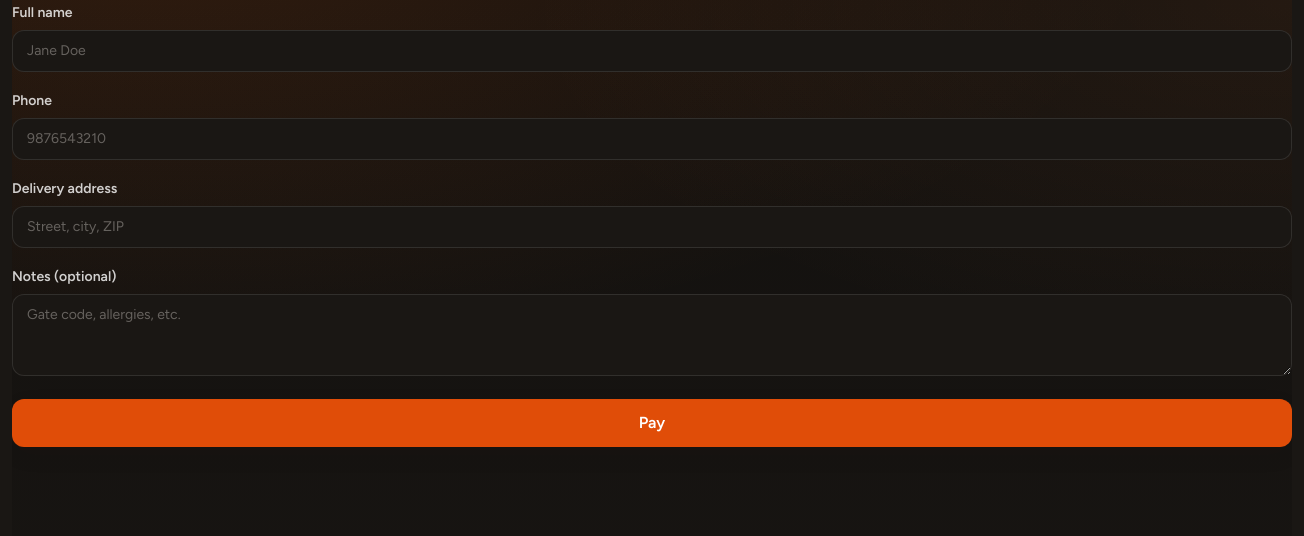
Test case: CheckoutForm › validates required fields
What coordinates should you click on to do the following:
click the button "Pay"
I would click on:
 (652, 423)
Its box is left=12, top=399, right=1292, bottom=447.
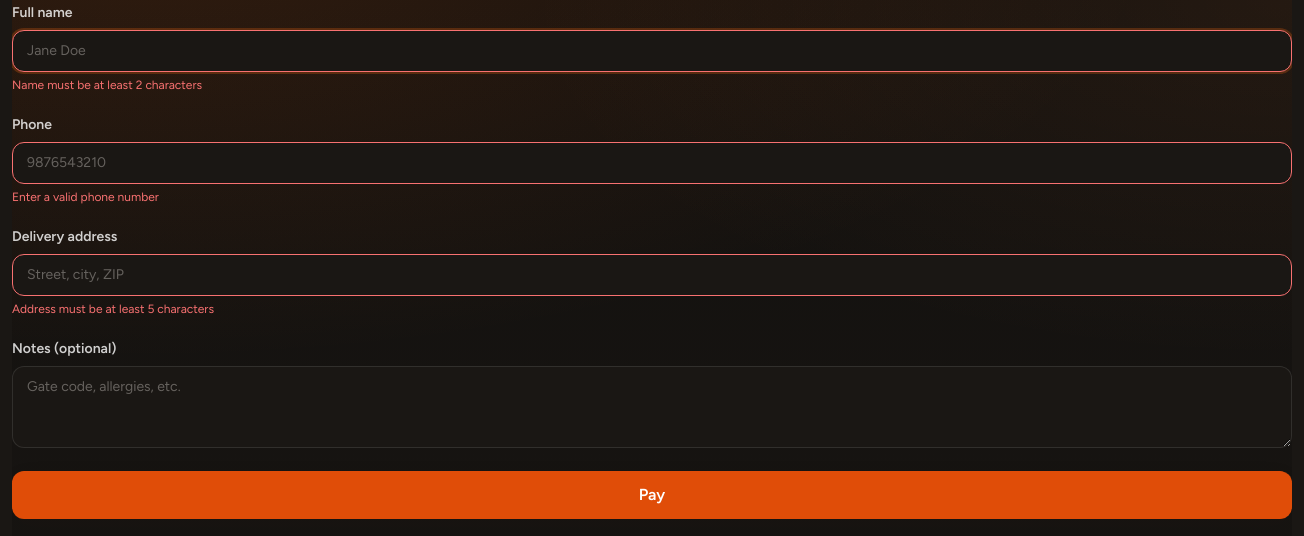
Check: the text "Name must be at least 2 characters" is shown, box left=12, top=78, right=202, bottom=92
